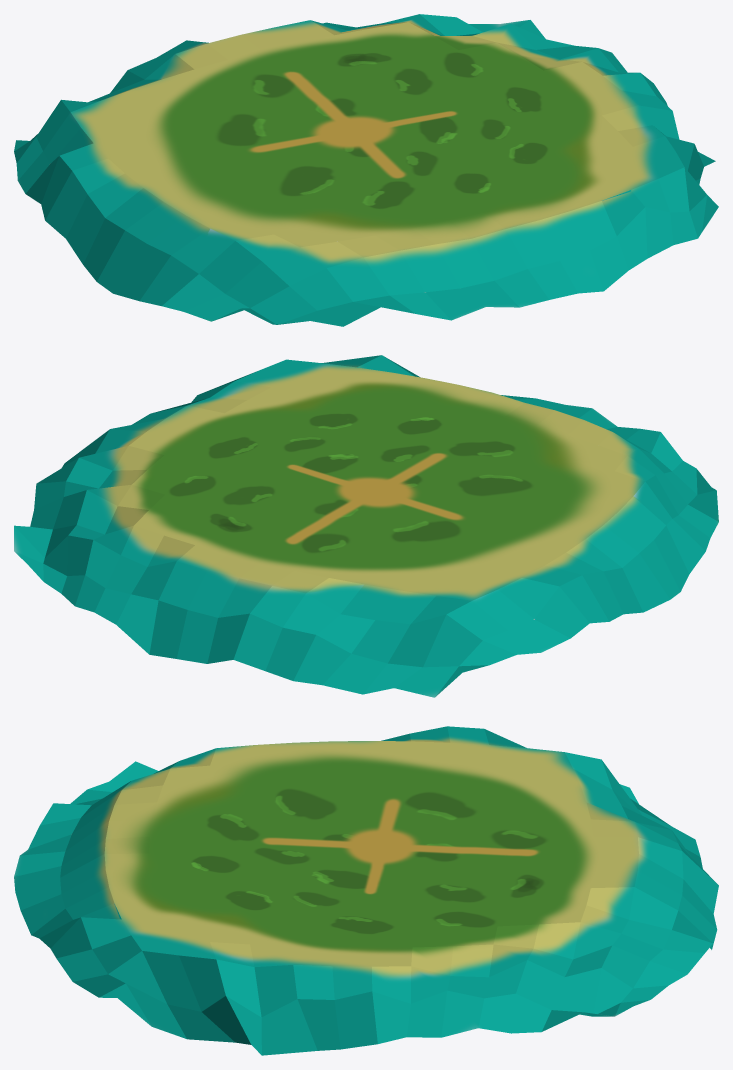
The model's file is Island Terrain 1.glb.
The picture shows the model from 3 angles, top to bottom: view 1: azimuth 30°, elevation 25°; view 2: azimuth 150°, elevation 25°; view 3: azimuth 270°, elevation 25°; orthographic projection. The views are drawn at different scales.
Visible parts, largest first — view 1: Plane; view 2: Plane; view 3: Plane.
Part boxes in pixels (x1=…): Plane: x1=14, y1=14, x2=718, y2=326; Plane: x1=14, y1=355, x2=718, y2=697; Plane: x1=14, y1=726, x2=718, y2=1055.
Bounding box in the file's own units: 17.81 × 2.08 × 18.14.
1 material, 1 textured.
